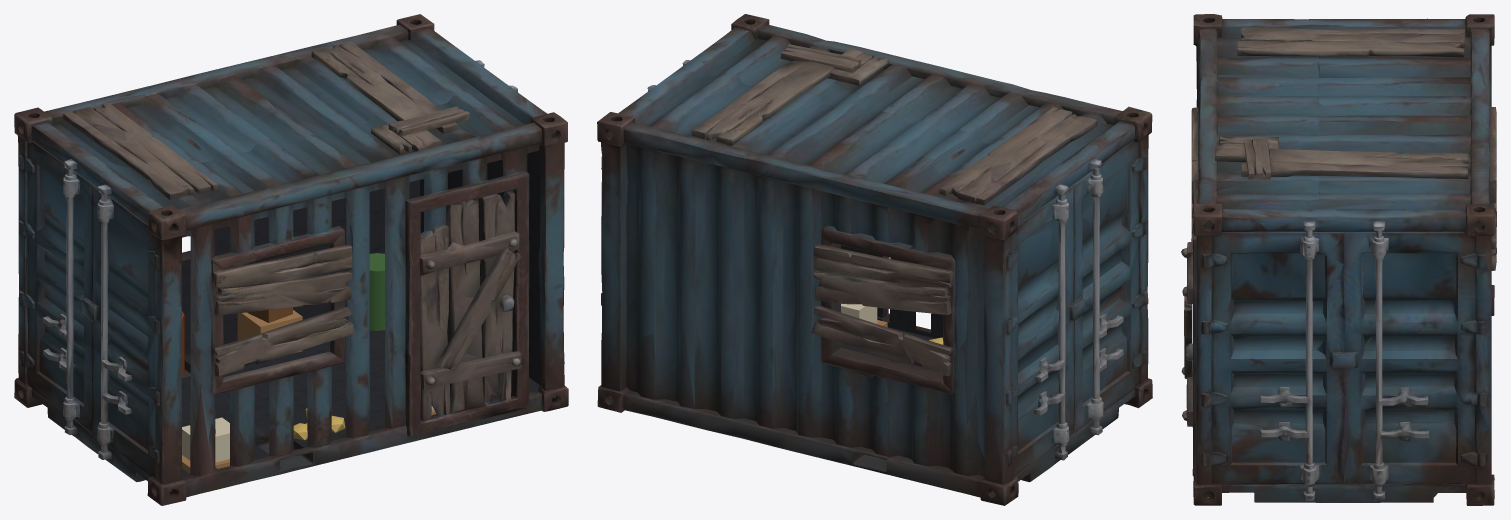
File: container_shack.glb
3 views of the same model, side by side, from view 1: azimuth 30°, elevation 25°; view 2: azimuth 150°, elevation 25°; view 3: azimuth 270°, elevation 25° (orthographic).
Visible parts, largest first — view 1: body, door_side; view 2: body; view 3: body, door_end_r, door_end_l, door_side.
Part boxes in pixels (x1,y1,x2,y2): body: [14, 14, 568, 505]; door_side: [413, 193, 534, 439]; body: [597, 14, 1152, 505]; body: [1191, 14, 1496, 505]; door_end_r: [1339, 224, 1472, 492]; door_end_l: [1205, 224, 1338, 492]; door_side: [1181, 206, 1196, 476].
Size of the model in its own units: 6 by 3.98 by 3.83.
9 materials, 3 textured.
